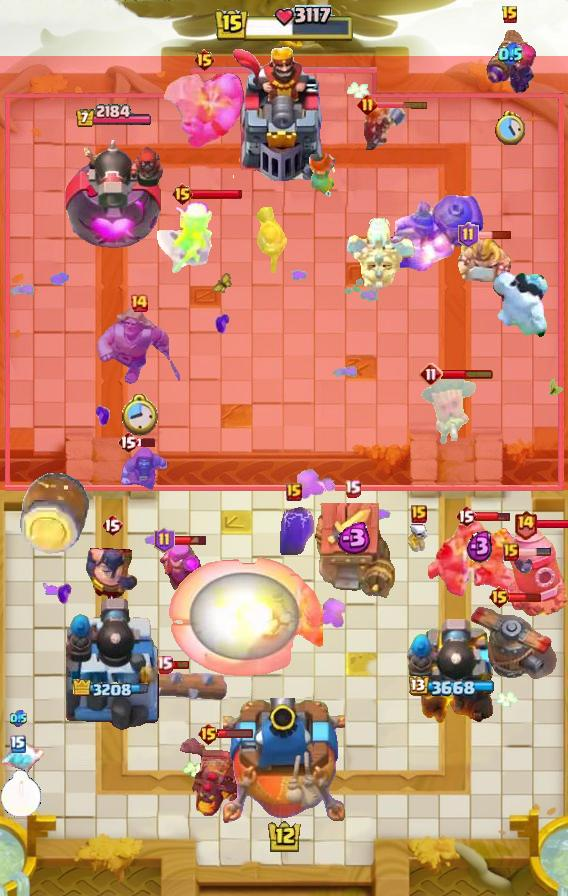archer-evolution: (177, 734, 263, 820)
archer-queen: (160, 71, 248, 151)
barbarian-barrel: (511, 550, 535, 576)
bat: (0, 741, 46, 777)
bomb-tower: (256, 207, 288, 273)
bowler: (119, 446, 169, 496)
cannoneer-tower: (426, 515, 534, 599)
clock: (213, 5, 355, 45)
dark-prince: (468, 598, 562, 680)
dirt: (15, 471, 91, 555)
electro-spirit: (332, 522, 371, 554), (466, 529, 494, 563), (497, 42, 522, 67), (9, 709, 27, 726)
elixir: (0, 770, 42, 818), (122, 395, 159, 438), (495, 111, 525, 145)
emote: (442, 368, 495, 380), (191, 188, 243, 200), (375, 99, 429, 108), (475, 510, 511, 523), (172, 534, 208, 546), (217, 728, 255, 739), (508, 593, 542, 604), (516, 547, 552, 557), (536, 518, 568, 529), (476, 230, 511, 240), (137, 437, 157, 448), (170, 658, 190, 669)
goblin-barrel: (420, 370, 478, 448)
goblin-giant: (455, 232, 513, 284)
goblin-hut: (93, 306, 185, 390)
heal-spirit: (405, 521, 433, 553)
hog-rider: (359, 102, 407, 152), (304, 148, 342, 200)
king-tower: (223, 698, 345, 826), (230, 45, 338, 181)
magic-archer: (508, 523, 568, 617)
mega-minion: (482, 26, 538, 98)
mini-pekka: (343, 218, 419, 298)
minion: (121, 668, 227, 704)
monk: (84, 534, 140, 606)
poison: (155, 196, 235, 276)
rage: (490, 271, 550, 343)
rascal-girl: (155, 537, 203, 605)
selected: (75, 103, 153, 128), (409, 676, 497, 698), (73, 679, 155, 701)
sparky: (309, 502, 395, 600)
spear-goblin: (274, 505, 314, 555)
text: (513, 508, 538, 539), (419, 362, 443, 386), (193, 48, 216, 72), (171, 182, 194, 206), (489, 585, 512, 609), (196, 722, 219, 746), (458, 222, 479, 248), (153, 527, 174, 553), (117, 430, 139, 454), (455, 504, 477, 528), (101, 513, 123, 537), (357, 93, 378, 114), (129, 293, 149, 313), (501, 5, 519, 25), (155, 654, 172, 673), (343, 479, 360, 497), (286, 483, 302, 501), (411, 505, 427, 523), (503, 543, 519, 561), (10, 735, 26, 753)
tower-bar: (60, 132, 167, 256), (66, 595, 162, 731), (406, 611, 500, 731)
valkyrie: (167, 557, 323, 677)
wizard: (361, 194, 485, 272)
